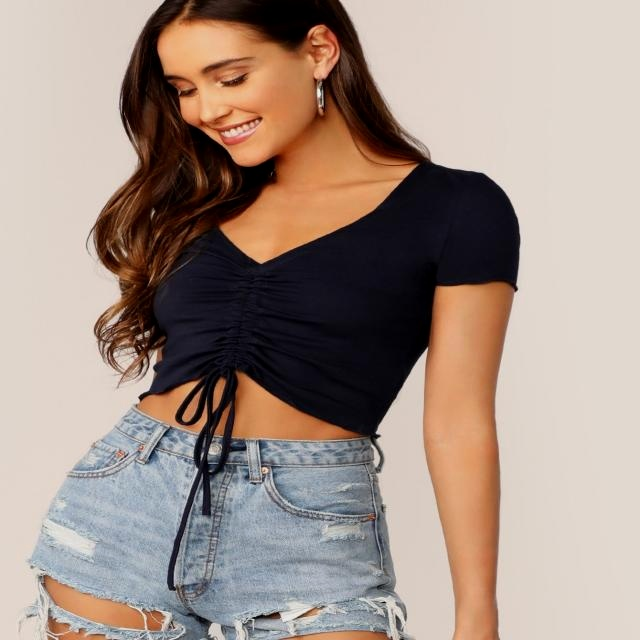Crop_Top: (135, 265, 431, 443)
low_neckline: (138, 156, 429, 372)
ripped_pants: (22, 405, 410, 640)
